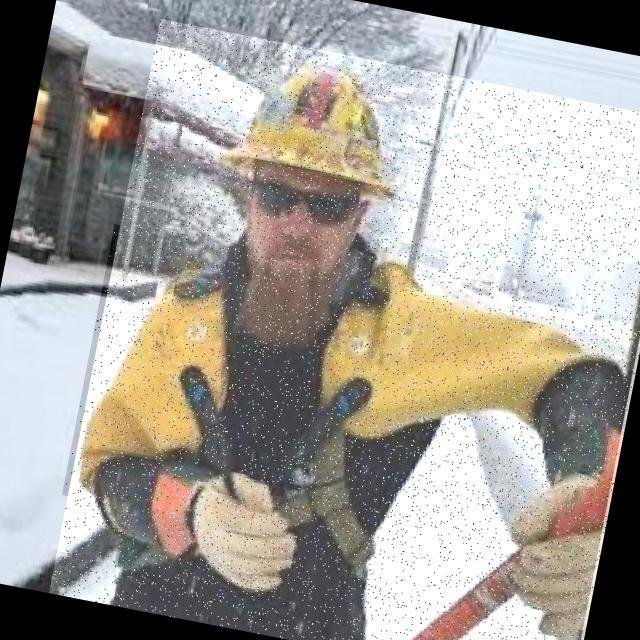Gloves: (502, 339, 627, 640), (81, 443, 311, 597)
Helmet: (220, 49, 422, 217)
Person: (35, 29, 640, 640)
Safety Vest: (62, 225, 637, 597)
